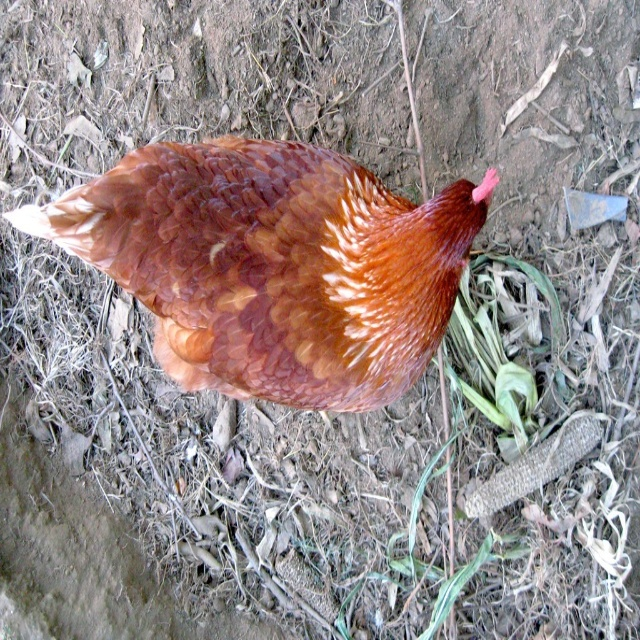Chicken: (0, 136, 500, 415)
